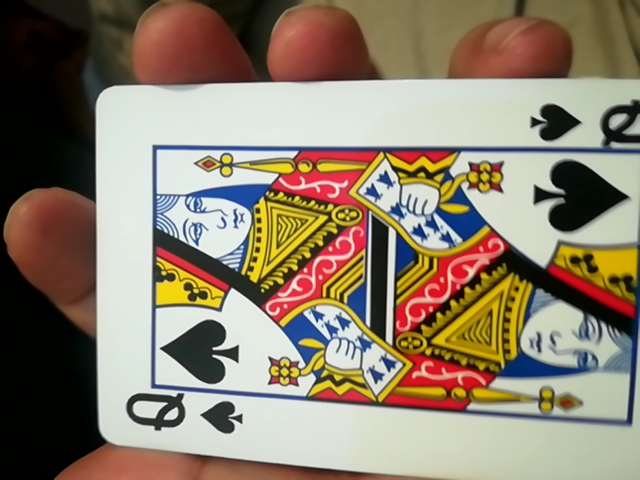ht q: (80, 73, 637, 478)
